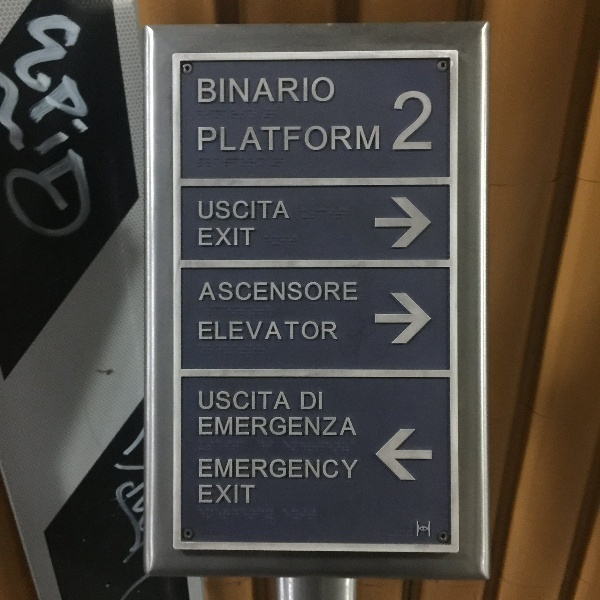text: (81, 12, 97, 256), (17, 12, 32, 256), (33, 12, 48, 256), (49, 12, 64, 256), (65, 12, 80, 256), (129, 426, 145, 556), (8, 12, 16, 256), (113, 426, 128, 556), (401, 88, 416, 153), (417, 88, 432, 153), (209, 77, 224, 103), (225, 77, 240, 103), (241, 77, 256, 103), (257, 77, 272, 103), (273, 77, 288, 103), (289, 77, 304, 103), (305, 77, 320, 103), (209, 126, 224, 151), (225, 126, 240, 151), (241, 126, 256, 151), (257, 126, 272, 151), (273, 126, 288, 151), (289, 126, 304, 151), (305, 126, 320, 151), (321, 126, 336, 151), (337, 126, 352, 151), (353, 126, 368, 151), (321, 77, 335, 103), (209, 417, 224, 438), (225, 417, 240, 438), (241, 417, 256, 438), (257, 417, 272, 438), (273, 417, 288, 438), (289, 417, 304, 438), (305, 417, 320, 438), (321, 417, 336, 438), (337, 417, 352, 438), (209, 484, 224, 504), (225, 484, 240, 504), (209, 391, 224, 411), (225, 391, 240, 411), (241, 391, 256, 411), (257, 391, 272, 411), (273, 391, 288, 411), (209, 460, 224, 480), (225, 460, 240, 480), (241, 460, 256, 480), (257, 460, 272, 480), (273, 460, 288, 480), (289, 460, 304, 480), (305, 460, 320, 480), (321, 460, 336, 480), (337, 460, 352, 480), (305, 392, 320, 411), (209, 322, 224, 341), (225, 322, 240, 341), (241, 322, 256, 341), (257, 322, 272, 341), (273, 322, 288, 341), (289, 322, 304, 341), (305, 322, 320, 341), (321, 322, 336, 341), (209, 283, 224, 302), (225, 283, 240, 302), (241, 283, 256, 302), (257, 283, 272, 302), (273, 283, 288, 302), (289, 283, 304, 302), (305, 283, 320, 302), (321, 283, 336, 302), (337, 283, 352, 302), (209, 201, 224, 220), (225, 201, 240, 220), (241, 201, 256, 220), (257, 201, 272, 220), (273, 201, 288, 220), (241, 484, 255, 504), (369, 126, 380, 151), (209, 228, 224, 246), (225, 228, 240, 246), (198, 77, 208, 103), (396, 88, 400, 153), (241, 228, 255, 246), (198, 126, 208, 151), (199, 417, 208, 438), (199, 484, 208, 504), (199, 391, 208, 411), (199, 460, 208, 480), (199, 322, 208, 341), (199, 201, 208, 220), (199, 228, 208, 246), (111, 426, 112, 556), (353, 460, 359, 480), (353, 417, 358, 438), (353, 283, 357, 302), (433, 88, 434, 153), (301, 392, 304, 411), (205, 283, 208, 302), (289, 391, 291, 411), (321, 392, 322, 411), (337, 322, 338, 341), (289, 201, 290, 220)
